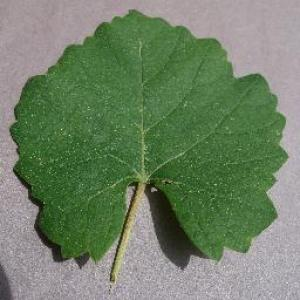Folha: (8, 8, 288, 284)
